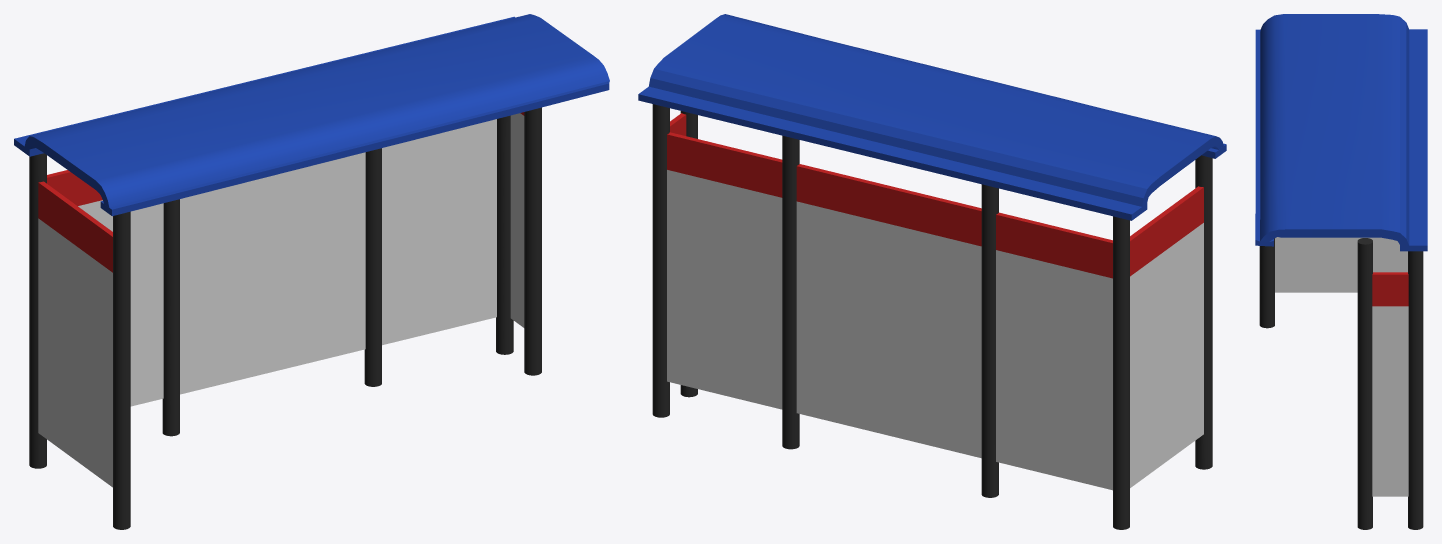
File: BusStation_M_v1_Carrie.FBX
The picture shows the model from 3 angles, left to right: view 1: azimuth 30°, elevation 25°; view 2: azimuth 150°, elevation 25°; view 3: azimuth 270°, elevation 25°; orthographic projection. The views are drawn at different scales.
Visible parts, largest first — view 1: Bus_base, Bus_top; view 2: Bus_base, Bus_top; view 3: Bus_top, Bus_base.
Part boxes in pixels (bbox=[...]): Bus_base: bbox=[29, 107, 541, 529]; Bus_top: bbox=[14, 14, 609, 216]; Bus_base: bbox=[652, 104, 1212, 529]; Bus_top: bbox=[638, 14, 1226, 220]; Bus_top: bbox=[1255, 14, 1427, 251]; Bus_base: bbox=[1259, 237, 1423, 529].
Size of the model in its own units: 1201 by 787 by 404.
